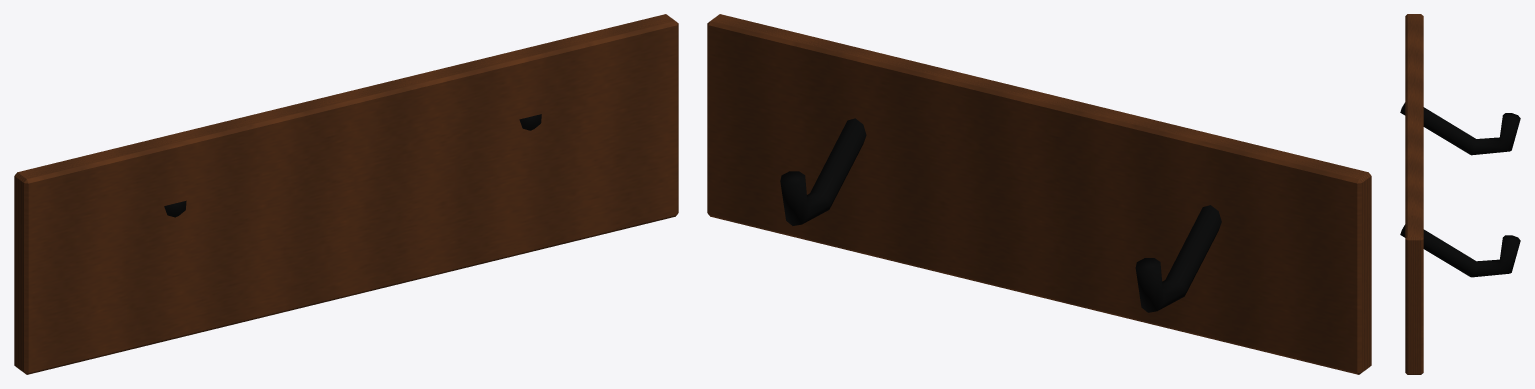
Rendered from StorageWallHooks.gltf.
3 renders of one model, left to right at view 1: azimuth 30°, elevation 25°; view 2: azimuth 150°, elevation 25°; view 3: azimuth 270°, elevation 25°, orthographic. The views are drawn at different scales.
Visible parts, largest first — view 1: StorageWallHooks__Body; view 2: StorageWallHooks__Body; view 3: StorageWallHooks__Body.
Part boxes in pixels (box(x1,y1,x2,y2)): StorageWallHooks__Body: box(14, 14, 678, 374); StorageWallHooks__Body: box(707, 14, 1371, 374); StorageWallHooks__Body: box(1400, 14, 1520, 374).
Size of the model in its own units: 0.98 by 0.28 by 0.2218.
Materials: 1 (1 with a texture image).
